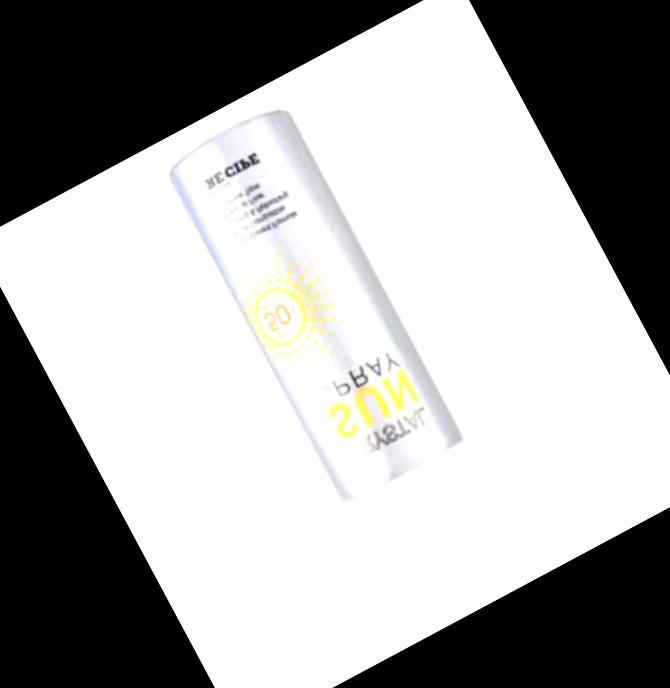cosmetic: (163, 98, 530, 618)
